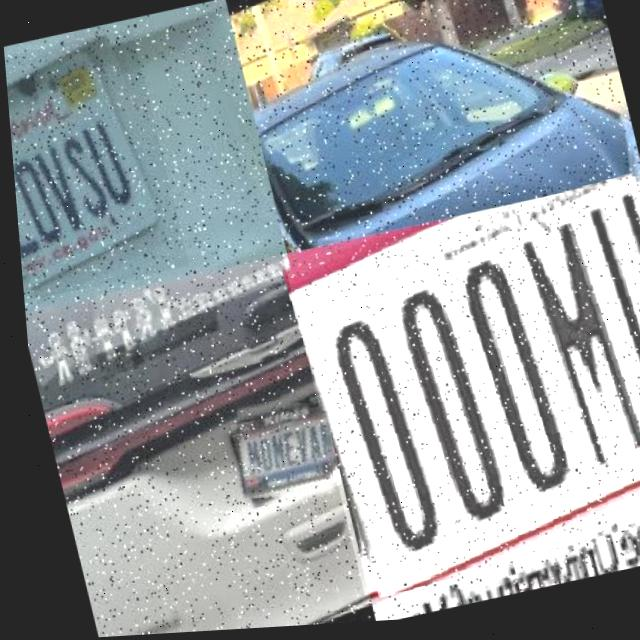LicensePlate: (274, 181, 640, 602), (2, 28, 186, 303), (231, 408, 326, 501)
